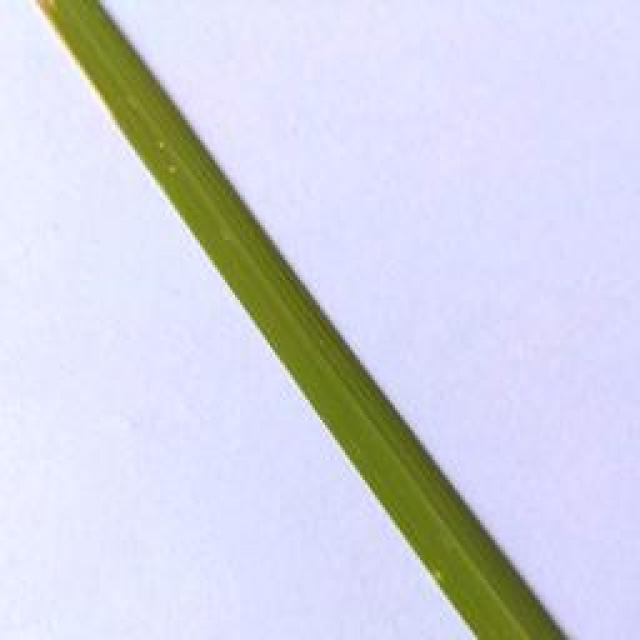Healthy-Plant: (209, 170, 566, 640)
